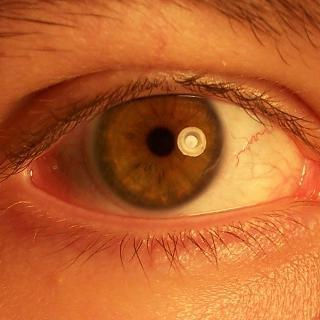iris: (93, 74, 228, 209)
